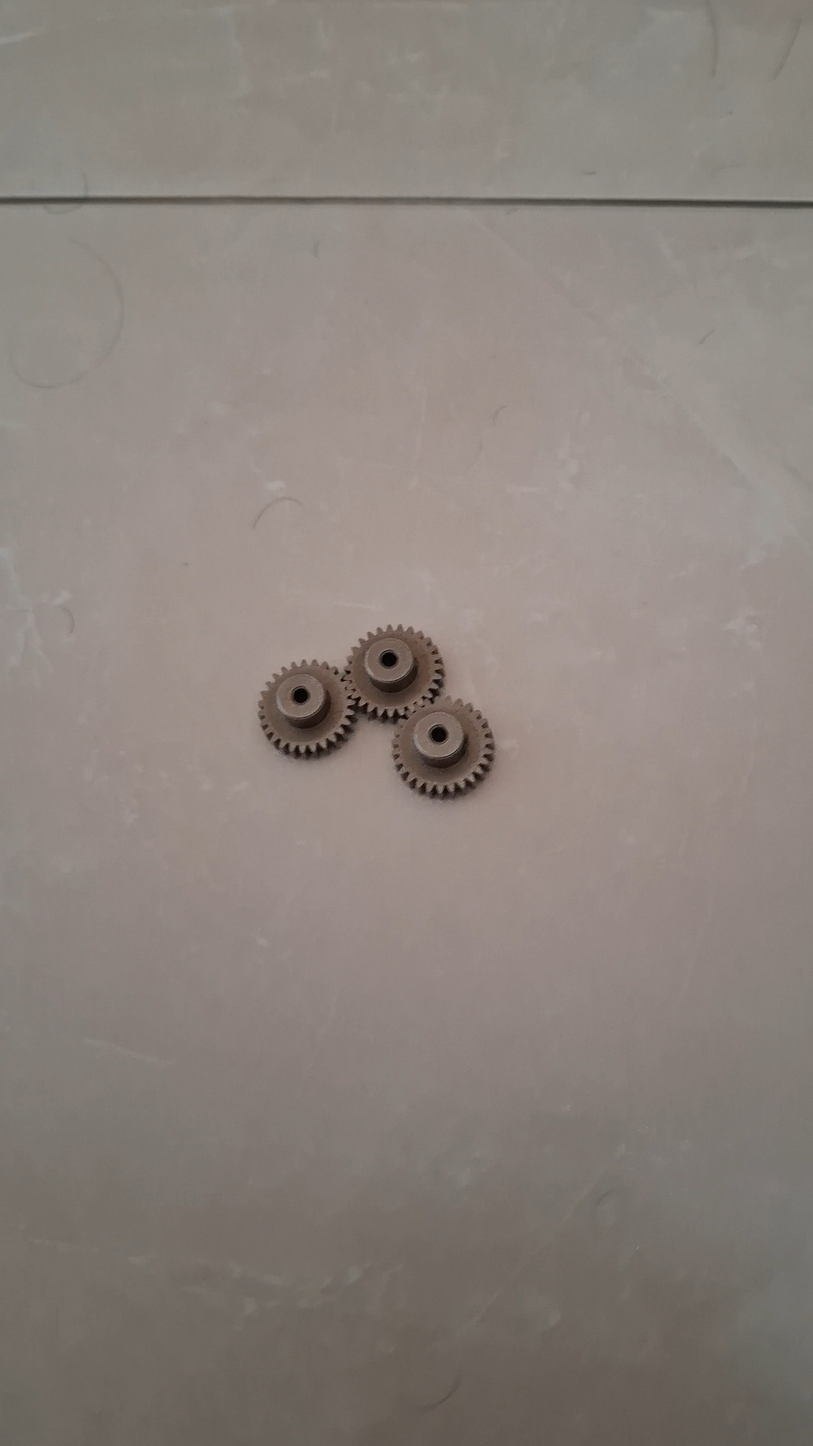spur gear: (392, 698, 495, 796), (258, 660, 355, 756), (344, 626, 444, 719)
